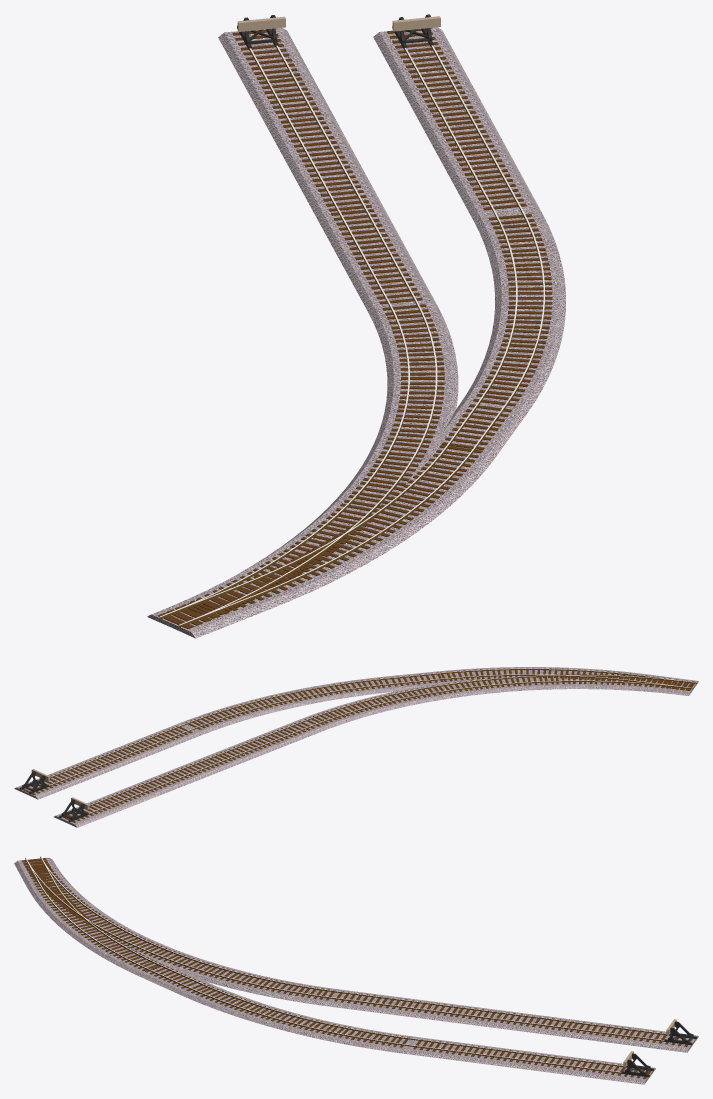
The model's file is GMLID_2633647_39464_319.dae.
The picture shows the model from 3 angles, top to bottom: view 1: azimuth 30°, elevation 25°; view 2: azimuth 150°, elevation 25°; view 3: azimuth 270°, elevation 25°; orthographic projection. The views are drawn at different scales.
Bounding box in the file's own units: 70.6 × 90.72 × 2.52.
Materials: 7 (1 with a texture image).
